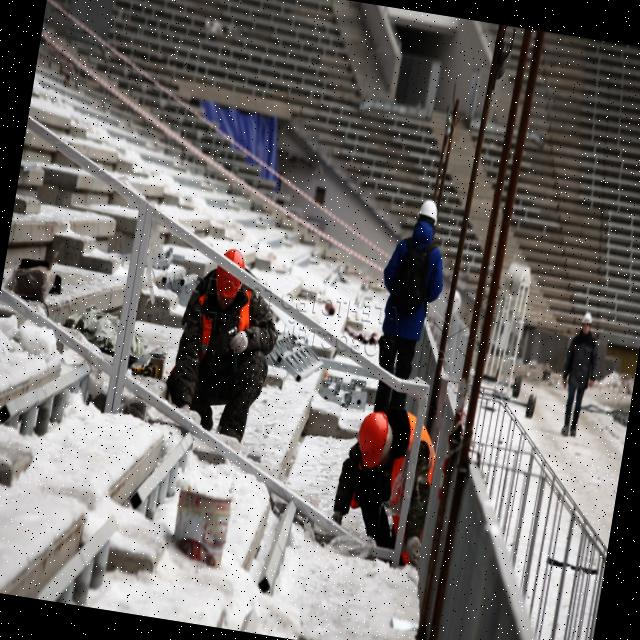Helmet: (353, 409, 400, 476), (212, 248, 250, 308), (416, 201, 442, 231), (581, 313, 595, 336)
Jacket: (184, 293, 264, 397), (383, 420, 437, 529)
NoJacket: (387, 236, 439, 346), (568, 336, 597, 388)
